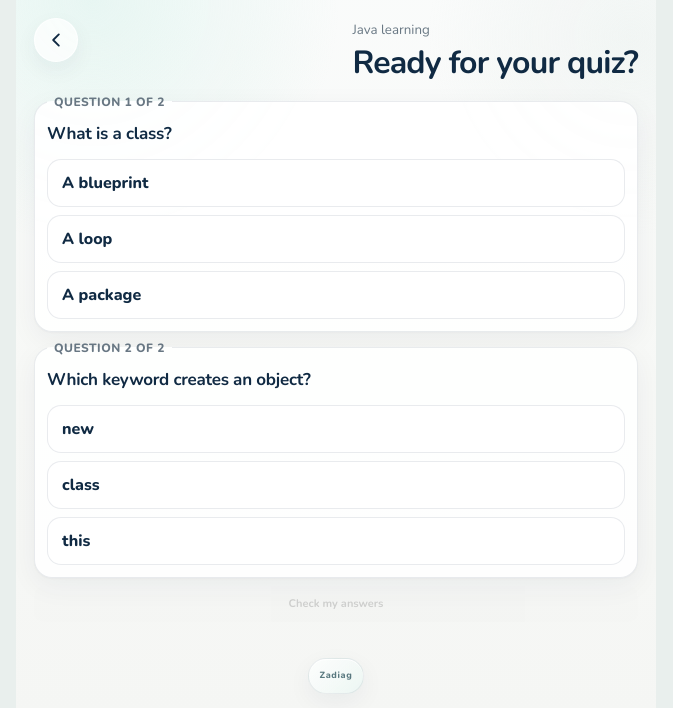
Test: quiz response screen › requires one answer per question and displays frozen corrections
Expected: the button "Check my answers" is disabled, x1=34 y1=586 x2=638 y2=622
Click the button "A blueprint" at (105, 183), box x1=47 y1=159 x2=625 y2=207
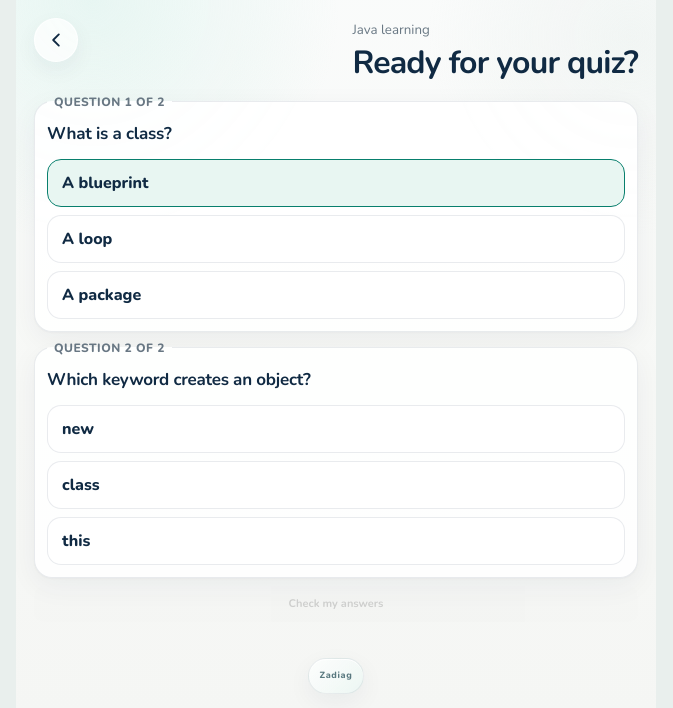
Click the button "class" at (81, 485), box x1=47 y1=461 x2=625 y2=509
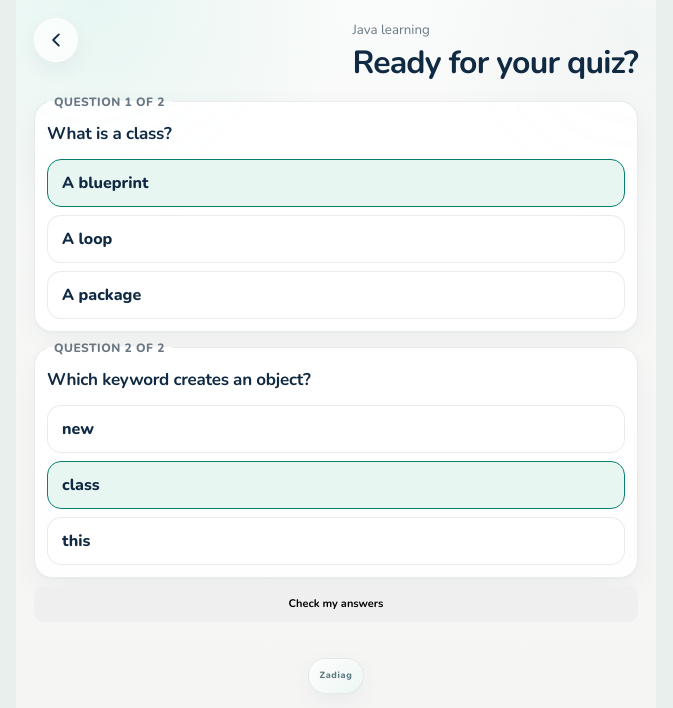
Result: the button "Check my answers" is enabled
Click the button "Check my answers" at (336, 604), box x1=34 y1=586 x2=638 y2=622
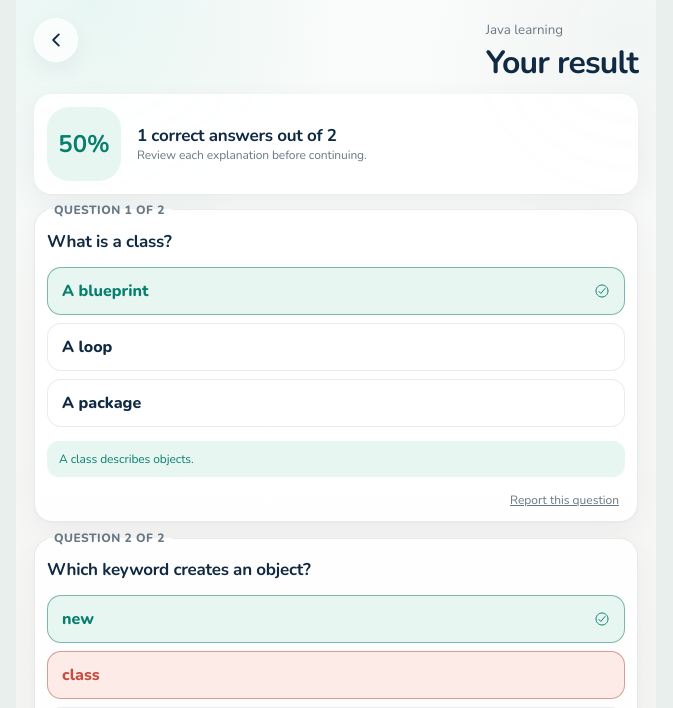
Result: the text "50%" is shown at x1=47 y1=107 x2=121 y2=181
Result: the text "1 correct answers out of 2" is shown at x1=137 y1=124 x2=367 y2=147
Result: the button "Report this question" is enabled
Click the button "Report this question" at (564, 500), box x1=504 y1=491 x2=625 y2=509
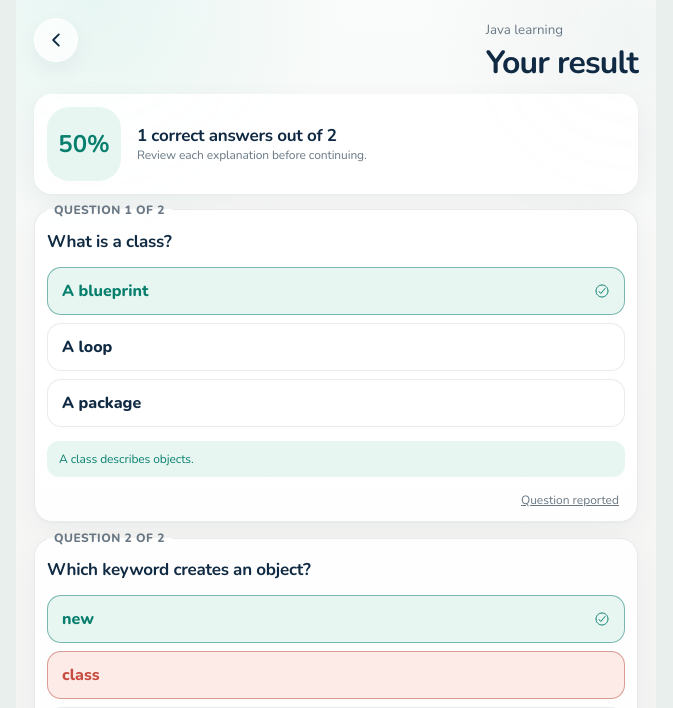
Result: the text "Question reported" is shown at x1=515 y1=491 x2=625 y2=509
